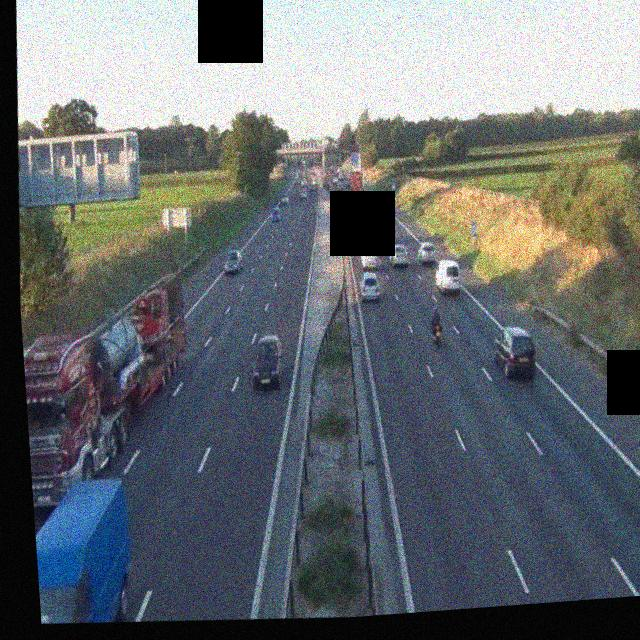car: (32, 473, 142, 629), (491, 325, 539, 381), (249, 332, 286, 391), (433, 258, 463, 295), (426, 304, 447, 349), (359, 268, 383, 302), (416, 241, 438, 266), (390, 242, 410, 268), (224, 249, 244, 275), (359, 247, 380, 271), (375, 225, 392, 247), (357, 221, 372, 243), (366, 202, 380, 224), (269, 205, 281, 223), (344, 199, 356, 215), (300, 186, 310, 199)
truck: (20, 281, 197, 515), (122, 284, 192, 412), (347, 161, 365, 193)
